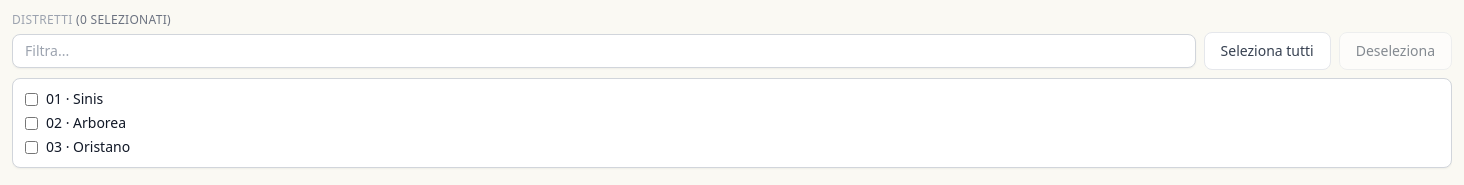
MultiSelectChecklist › toggles options on and off and shows the selection counter
The width and height of the screenshot is (1464, 185).
Click the checkbox labelled "01 · Sinis".
click(32, 99)  # box [25,92,38,106]
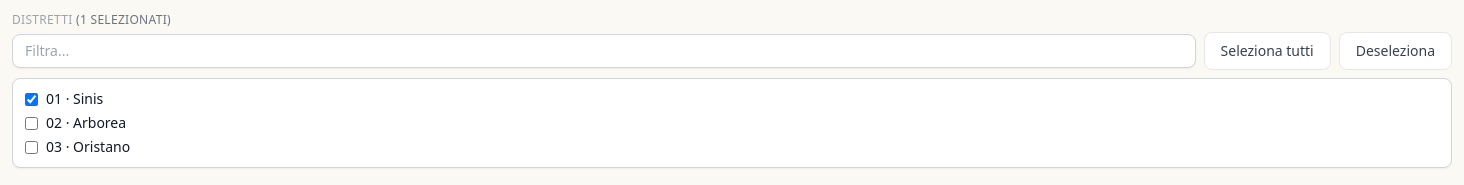
Click the checkbox labelled "03 · Oristano".
click(32, 147)  # box [25,140,38,154]
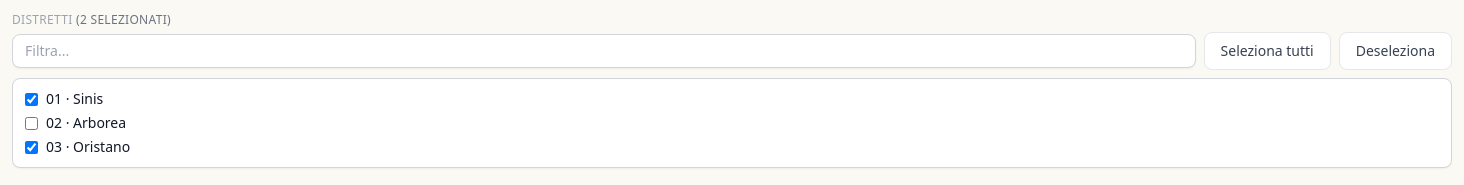
Now the text "(2 selezionati)" is shown, box [76,11,171,28]
Click the checkbox labelled "01 · Sinis".
click(32, 99)  # box [25,92,38,106]
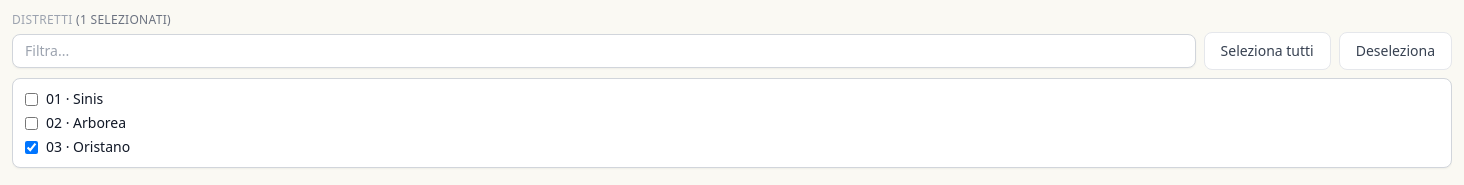
Now the checkbox labelled "01 · Sinis" is not checked, box [25,92,38,106]
Now the text "(1 selezionati)" is shown, box [76,11,171,28]
